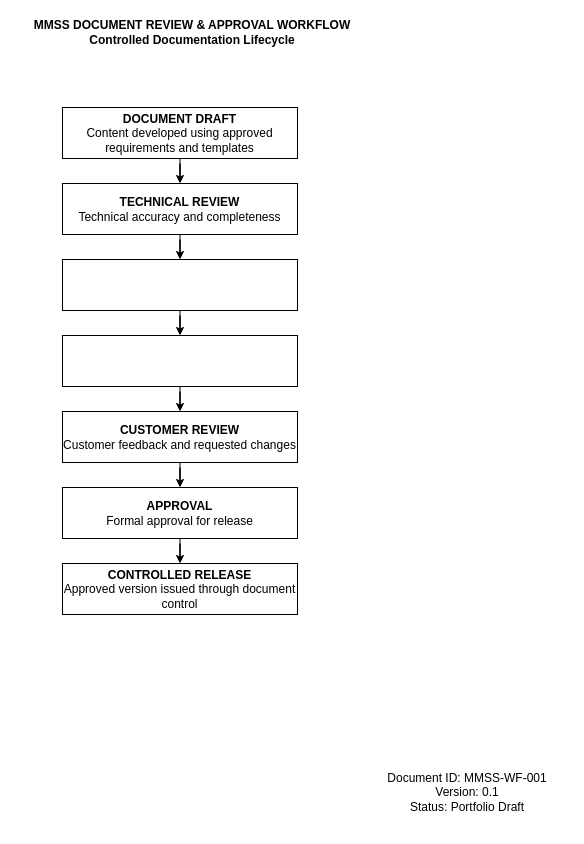
Some shapes in this 584 by 844 pixel diagram are drawn without their labels. Each missing label, with the box of its shape:
EDITORIAL / QUALITY REVIEW Grammar, formatting, consistency, and usability: (62, 334, 298, 386)
SME REVIEW Subject matter validation: (62, 258, 298, 310)
